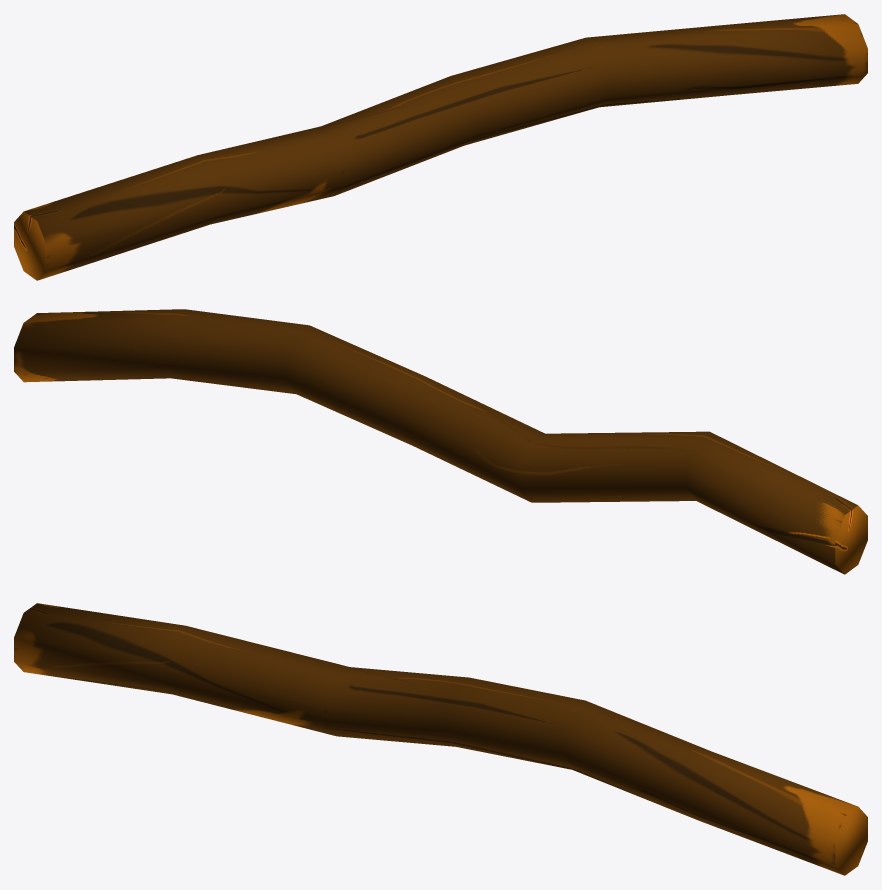
Rendered from Stick2.fbx.
3 renders of one model, top to bottom at view 1: azimuth 30°, elevation 25°; view 2: azimuth 150°, elevation 25°; view 3: azimuth 330°, elevation 25°, orthographic.
Visible parts, largest first — view 1: Stick2; view 2: Stick2; view 3: Stick2.
Part boxes in pixels (<box>): Stick2: <box>14,14,867,280</box>; Stick2: <box>14,309,867,574</box>; Stick2: <box>14,603,867,875</box>.
Bounding box in the file's own units: 112 × 13.87 × 12.65.
Materials: 1 (1 with a texture image).
